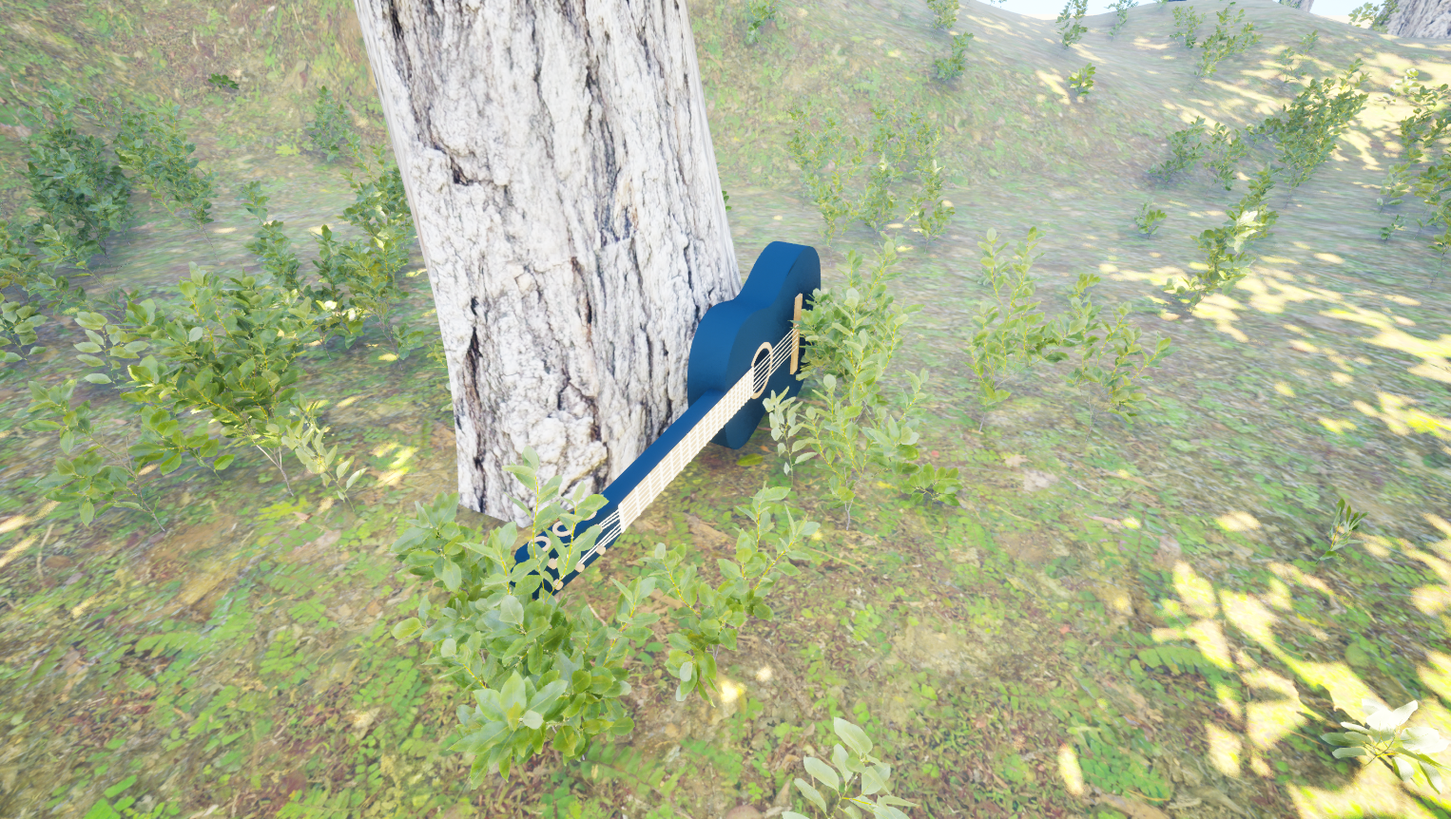Guitar: (456, 227, 829, 695)
